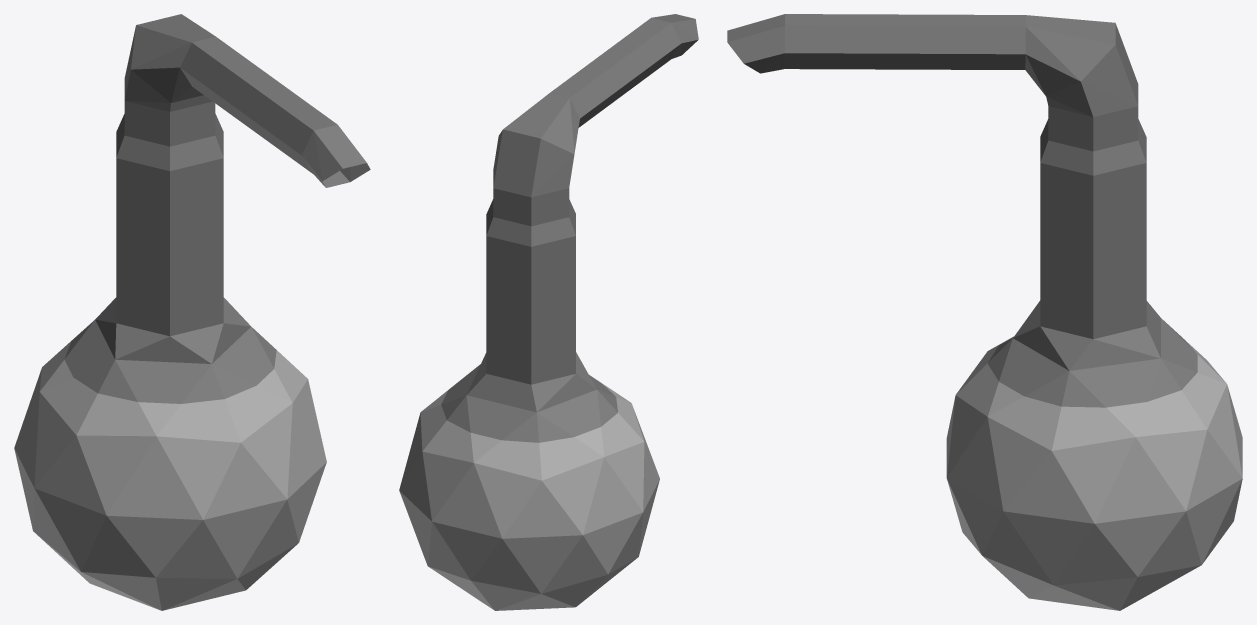
File: alchemist_aparatus_749x01.gltf
3 views of the same model, side by side, from view 1: azimuth 30°, elevation 25°; view 2: azimuth 150°, elevation 25°; view 3: azimuth 270°, elevation 25° (orthographic). The views are drawn at different scales.
Visible parts, largest first — view 1: alchemist_aparatus_749x01; view 2: alchemist_aparatus_749x01; view 3: alchemist_aparatus_749x01.
Boxes of the visible parts, box(x1,y1,x2,y2) form: alchemist_aparatus_749x01: box(14, 14, 370, 610); alchemist_aparatus_749x01: box(399, 14, 698, 610); alchemist_aparatus_749x01: box(727, 14, 1242, 610).
Bounding box in the file's own units: 0.5225 × 1.07 × 0.8656.
Materials: 2 (2 with a texture image).
